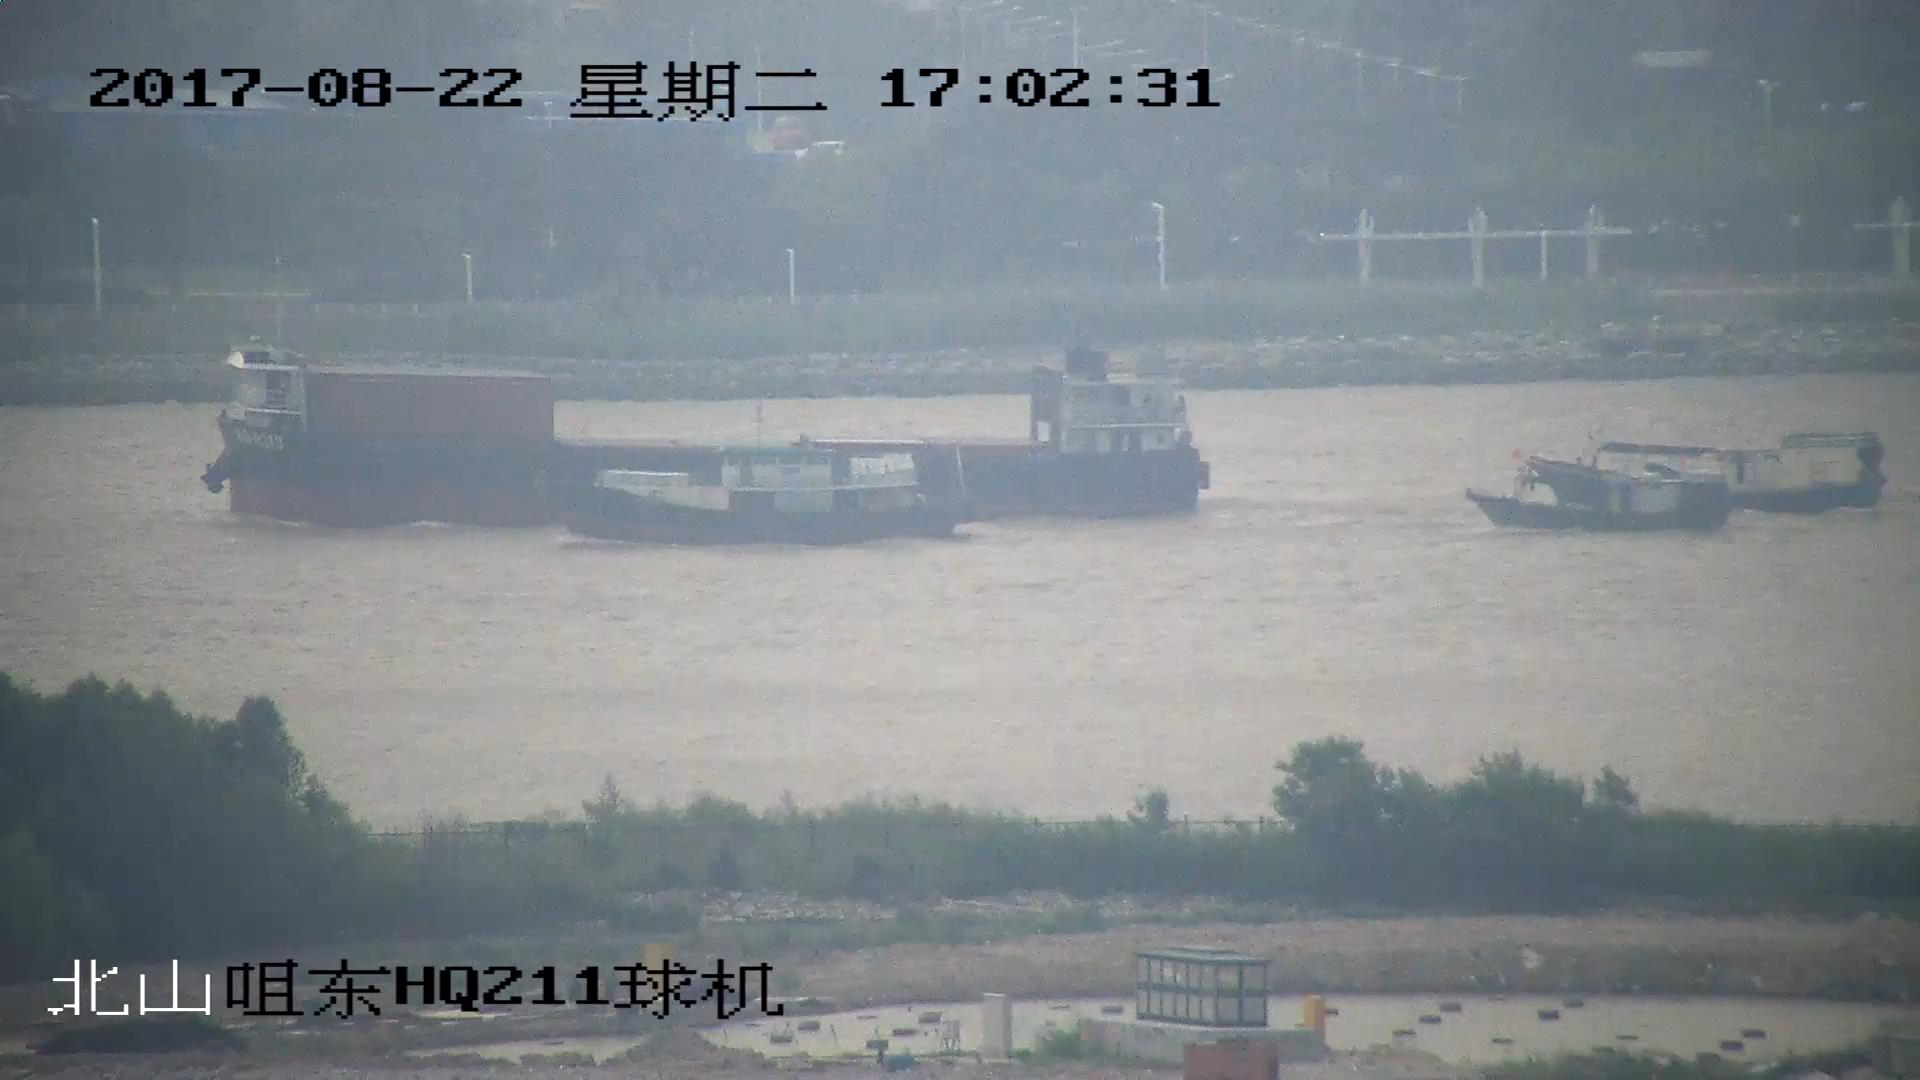fishing boat: (536, 431, 967, 544), (1529, 427, 1889, 518), (1470, 456, 1727, 539)
general cargo ship: (210, 312, 1202, 525)
